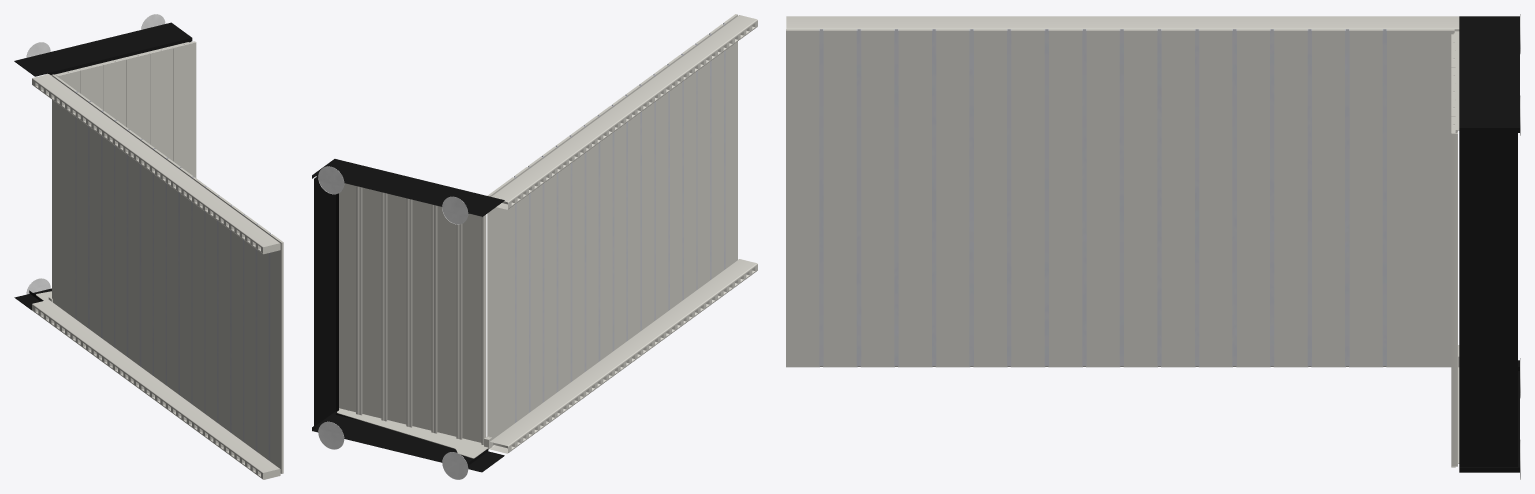
The model's file is ShelvesBase05.obj.
3 renders of one model, left to right at view 1: azimuth 30°, elevation 25°; view 2: azimuth 150°, elevation 25°; view 3: azimuth 270°, elevation 25°, orthographic. The views are drawn at different scales.
Visible parts, largest first — view 1: ShelvesBase05; view 2: ShelvesBase05; view 3: ShelvesBase05.
Boxes of the visible parts, x1,y1,x2,y2 form: ShelvesBase05: (14, 14, 283, 479); ShelvesBase05: (312, 14, 757, 479); ShelvesBase05: (786, 14, 1520, 479).
Bounding box in the file's own units: 0.7377 × 1.14 × 2.
